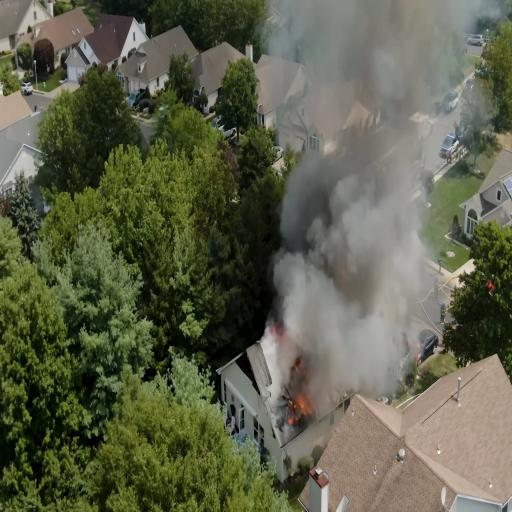smoke: (302, 0, 421, 191), (283, 176, 408, 326), (259, 318, 372, 400)
